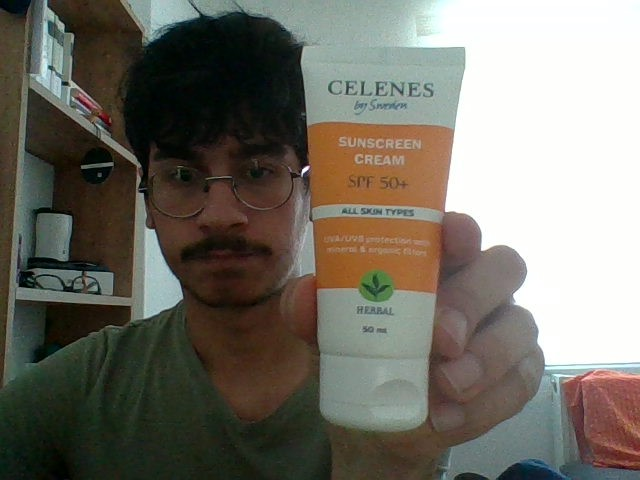CelenesSunCream: (299, 46, 463, 427)
